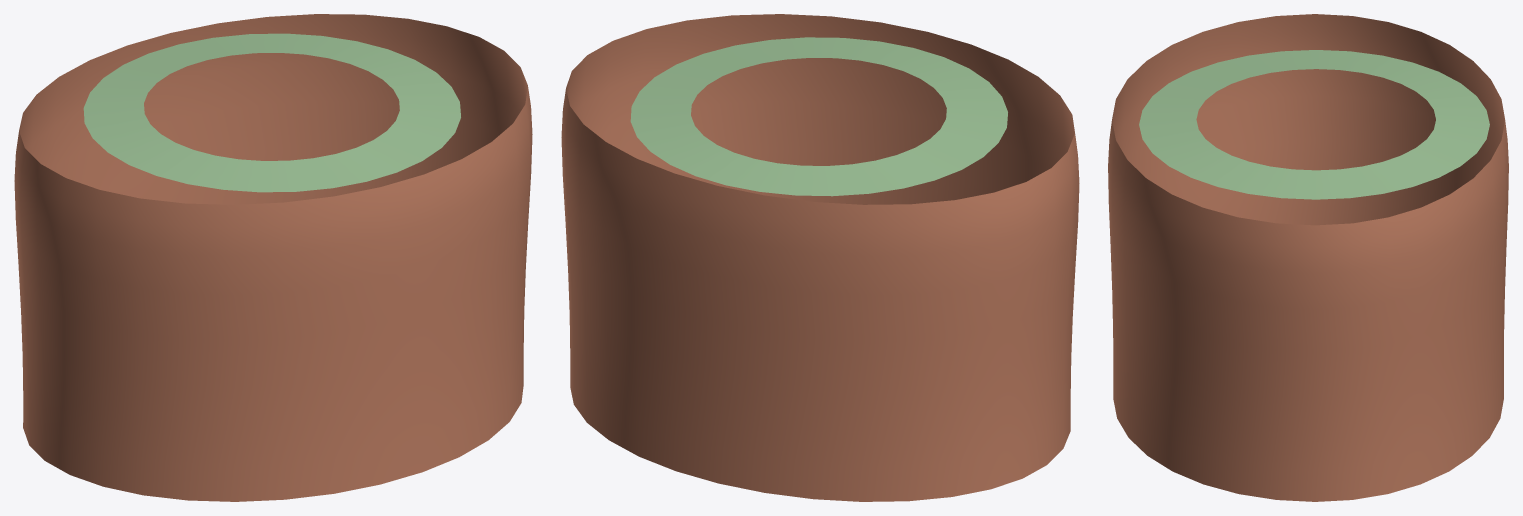
File: armor_robe.glb
3 views of the same model, side by side, from view 1: azimuth 30°, elevation 25°; view 2: azimuth 150°, elevation 25°; view 3: azimuth 270°, elevation 25° (orthographic). The views are drawn at different scales.
Parts seen in each view (by area): view 1: armor_robe; view 2: armor_robe; view 3: armor_robe.
Part boxes in pixels (x1,y1,x2,y2): armor_robe: [14, 14, 532, 501]; armor_robe: [561, 14, 1079, 501]; armor_robe: [1108, 14, 1508, 501].
Size of the model in its own units: 0.3645 by 0.22 by 0.287.
